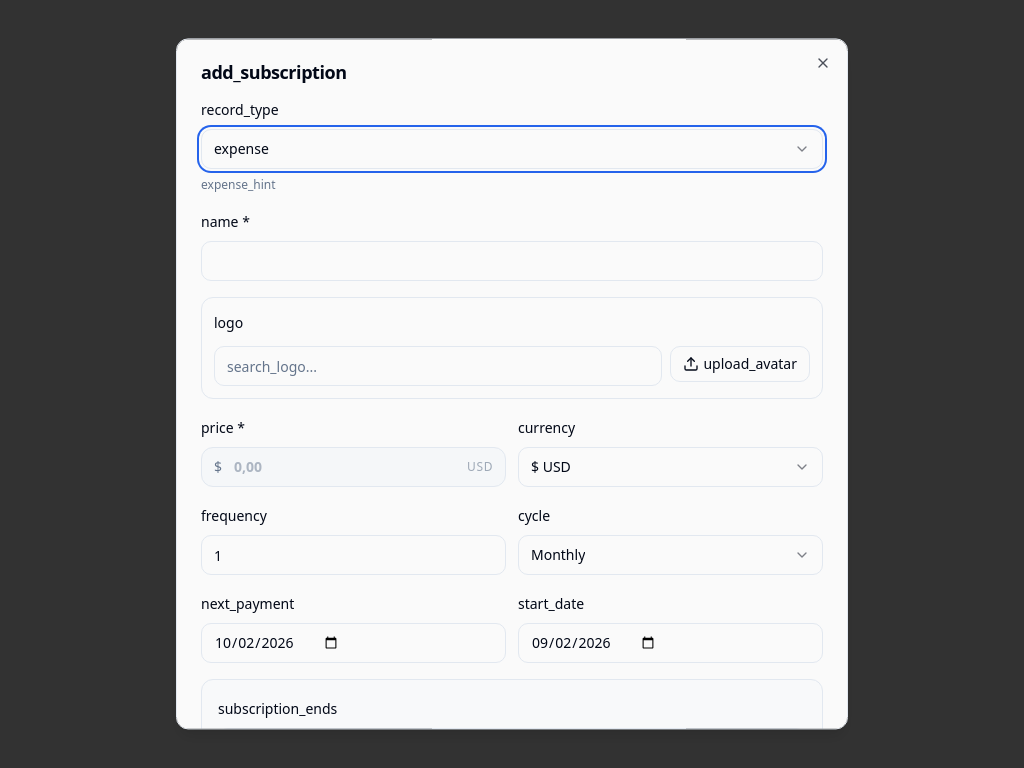
it: SubscriptionFormModal › shows 'loading' text while logo search is in progress
The image size is (1024, 768).
Type "netflix" into the field with placeholder "search_logo..." at (438, 366), box left=214, top=346, right=662, bottom=386
Wait 400 ms
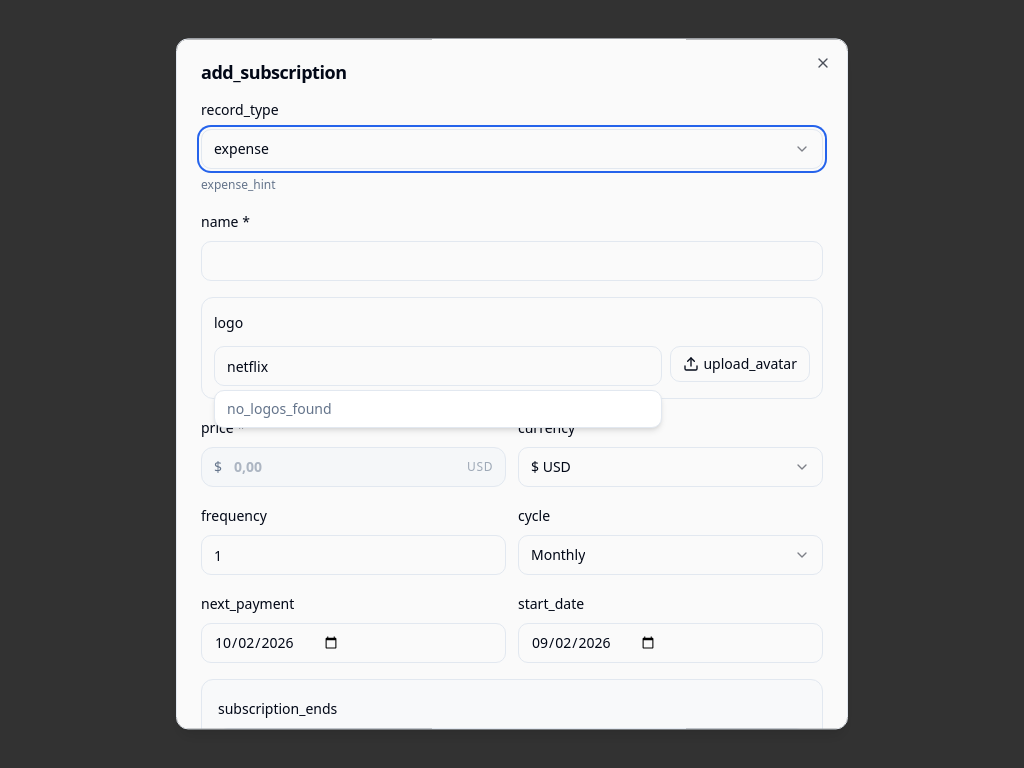
Check: the text "loading" is shown, box left=227, top=399, right=332, bottom=418
